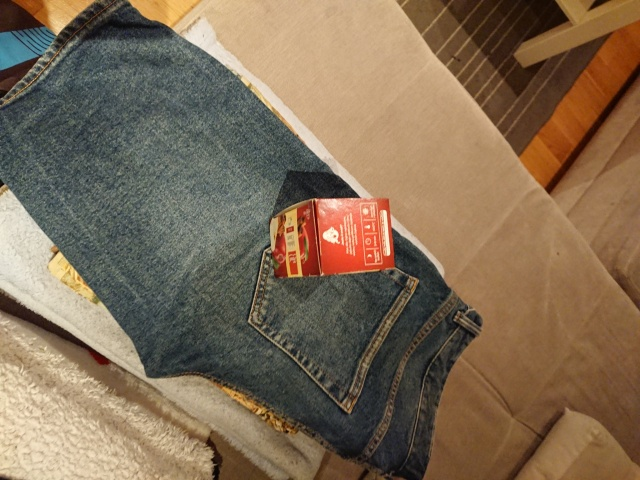Franck Apple Cinnamon Tea 60g: (266, 194, 398, 281)
